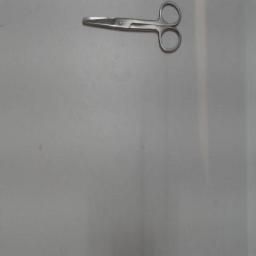Dressing Scissors: (78, 0, 186, 60)
